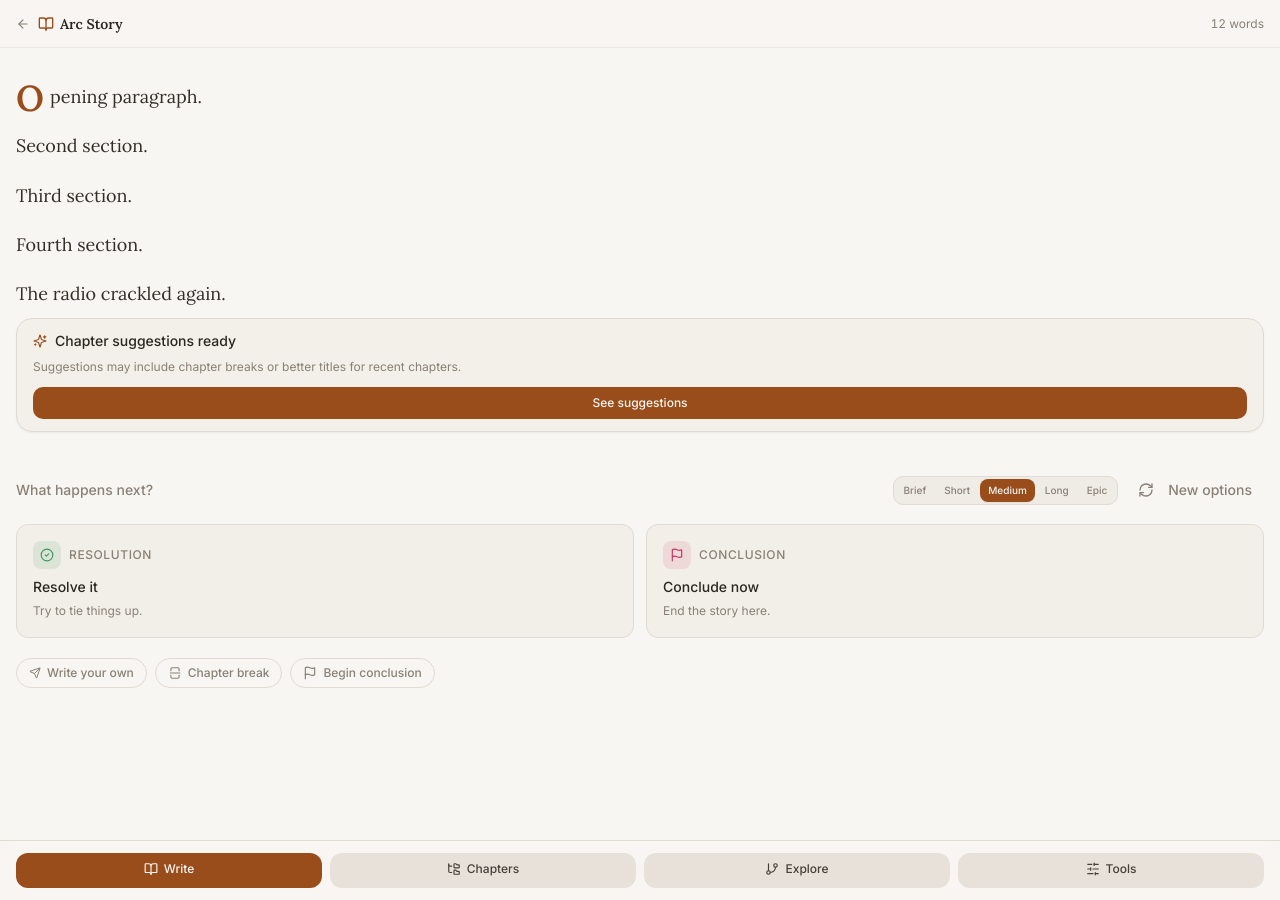
Test: StoryWrite narrative arc integration › re-runs chapter review after applying a split suggestion
What coordinates should you click on to do the following:
click the button "See suggestions"
I would click on:
 (640, 404)
Its box is [33,388,1247,420].
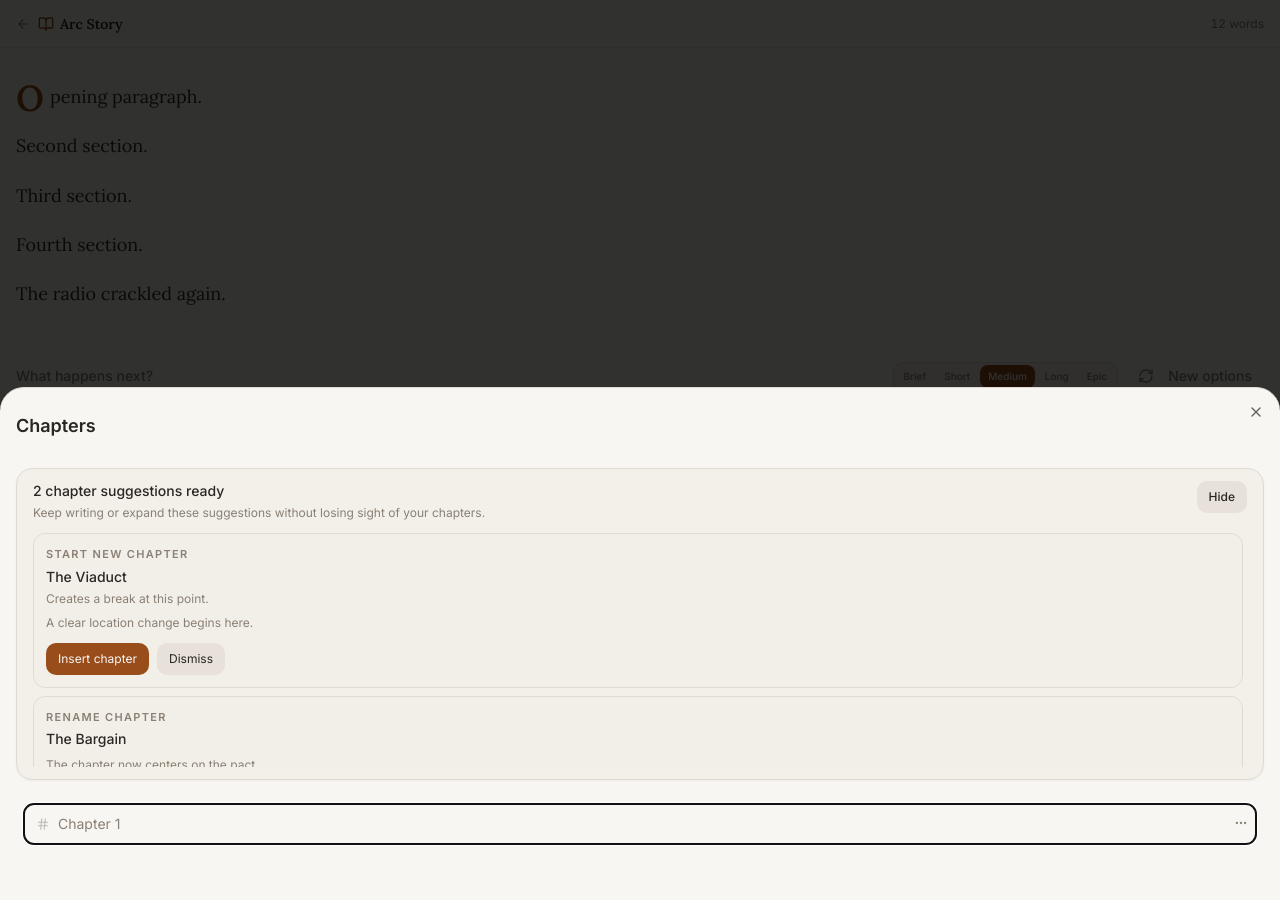
Result: the text "The Viaduct" is shown at [46,568,127,584]
Result: the text "The Bargain" is shown at [46,730,126,747]
What coordinates should you click on to do the following:
click the button "Insert chapter"
I would click on:
 (98, 658)
Its box is [46,642,149,674].
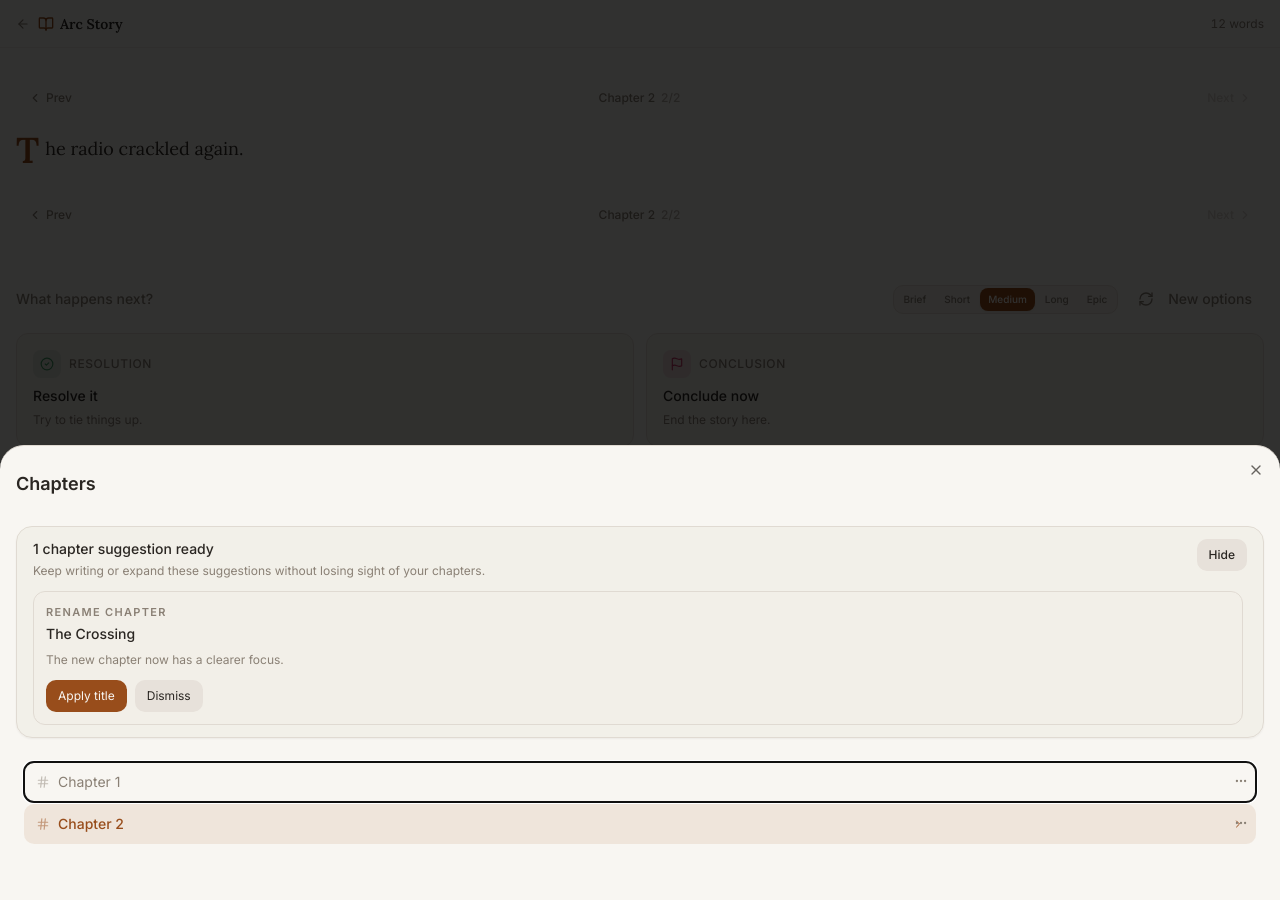
Result: the text "The Viaduct" is gone
Result: the text "The Bargain" is gone
Result: the text "The Crossing" is shown at [46,625,135,642]
